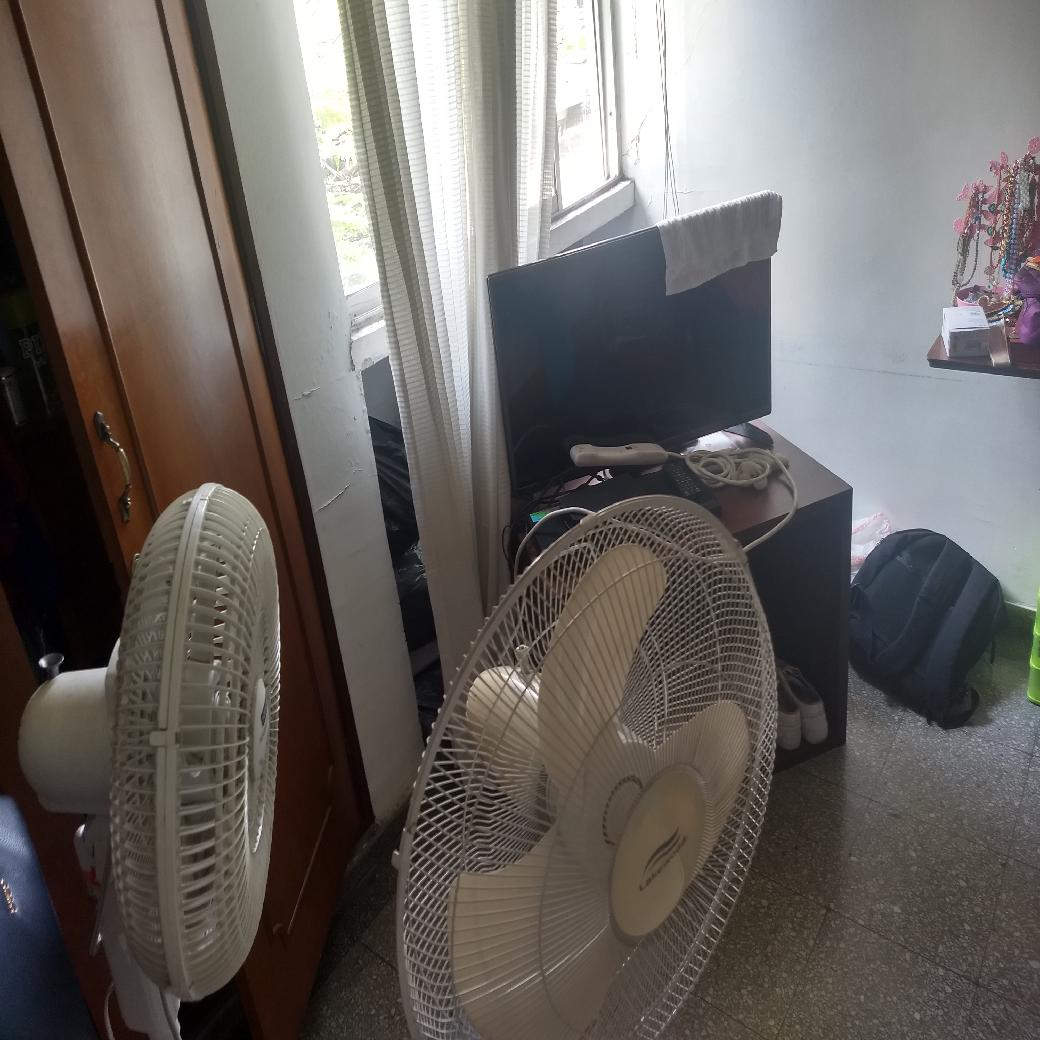tv: (488, 197, 786, 489)
ventilador: (388, 494, 777, 1035), (31, 483, 286, 999)
